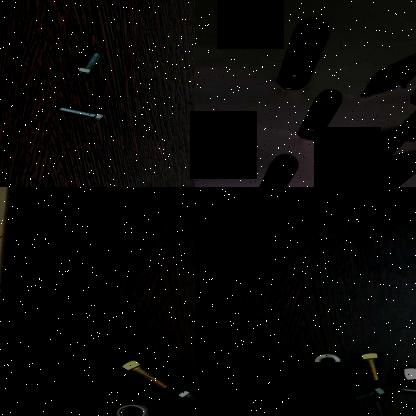Bolts: (115, 357, 169, 389), (308, 167, 376, 187), (352, 346, 386, 380), (355, 78, 407, 98), (57, 100, 104, 122), (311, 370, 356, 392), (70, 50, 106, 76), (390, 355, 416, 385), (307, 400, 348, 416), (173, 387, 195, 408), (367, 401, 397, 416), (399, 385, 416, 397)
NUTS: (274, 68, 312, 92), (112, 400, 153, 416), (295, 122, 327, 142), (313, 350, 342, 370), (393, 124, 416, 146), (292, 390, 316, 404), (409, 86, 416, 108)
